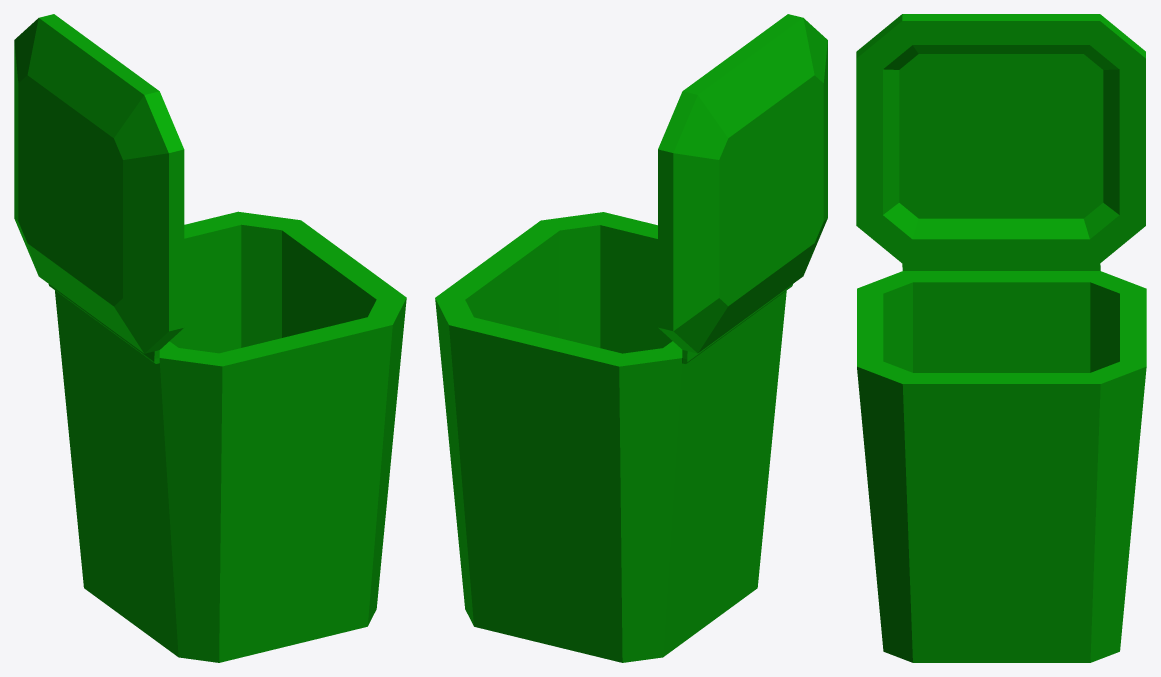
The model's file is TrashCan(Opened).fbx.
3 renders of one model, left to right at view 1: azimuth 30°, elevation 25°; view 2: azimuth 150°, elevation 25°; view 3: azimuth 270°, elevation 25°, orthographic. The views are drawn at different scales.
Parts seen in each view (by area): view 1: Untitled.004; view 2: Untitled.004; view 3: Untitled.004.
Boxes of the visible parts, x1,y1,x2,y2 form: Untitled.004: (14,14,406,662); Untitled.004: (435,14,827,662); Untitled.004: (856,14,1146,662).
Bounding box in the file's own units: 110 × 214 × 104.
